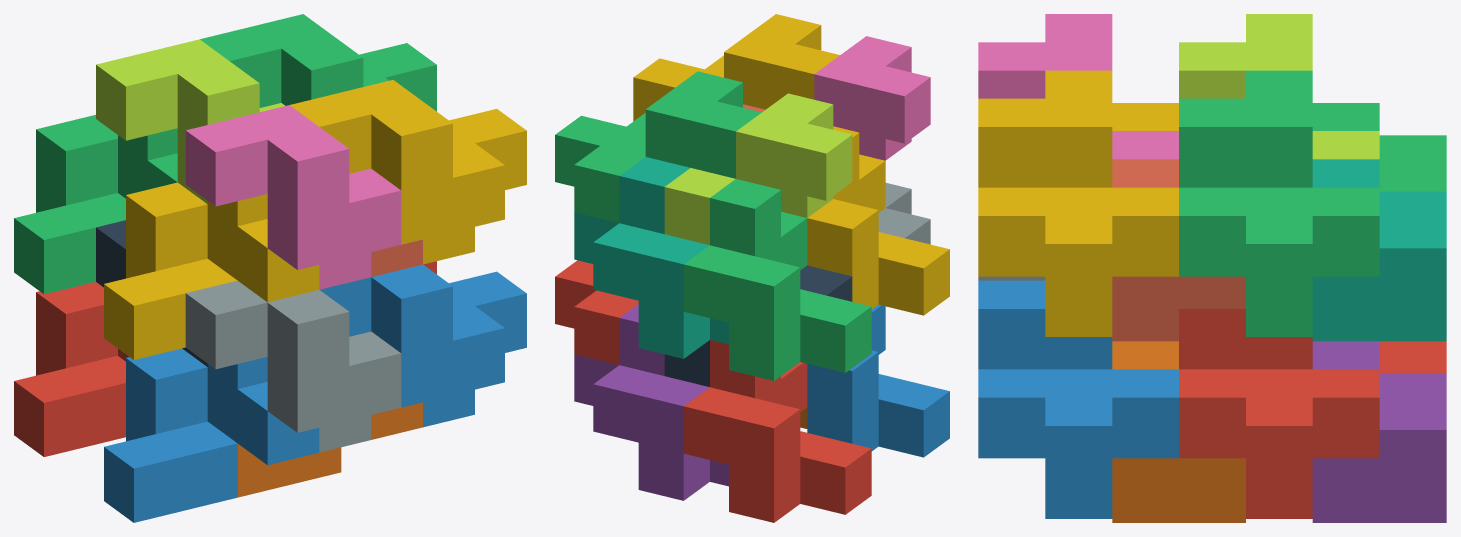
File: tiling.obj
3 renders of one model, left to right at view 1: azimuth 30°, elevation 25°; view 2: azimuth 150°, elevation 25°; view 3: azimuth 270°, elevation 25°, orthographic. The views are drawn at different scales.
Parts seen in each view (by area): view 1: copy_2_domain_4, copy_1_domain_2, copy_2_domain_8, copy_2_domain_2, copy_1_domain_4, copy_2_domain_6, copy_1_domain_3, copy_1_domain_1, copy_2_domain_3, copy_2_domain_7, copy_1_domain_6, copy_2_domain_1 (+1 smaller); view 2: copy_1_domain_3, copy_1_domain_1, copy_2_domain_7, copy_1_domain_7, copy_2_domain_3, copy_1_domain_5, copy_1_domain_4, copy_1_domain_2, copy_2_domain_4, copy_2_domain_8, copy_2_domain_5, copy_2_domain_1 (+1 smaller); view 3: copy_2_domain_8, copy_2_domain_7, copy_2_domain_6, copy_2_domain_5, copy_1_domain_7, copy_1_domain_5, copy_1_domain_6, copy_2_domain_4, copy_2_domain_3, copy_1_domain_8, copy_1_domain_3, copy_1_domain_1 (+1 smaller).
Boxes of the visible parts, bbox=[...] form: copy_2_domain_4: bbox=[185, 105, 401, 289]; copy_1_domain_2: bbox=[104, 348, 319, 522]; copy_2_domain_8: bbox=[290, 80, 526, 264]; copy_2_domain_2: bbox=[185, 280, 401, 452]; copy_1_domain_4: bbox=[104, 182, 319, 359]; copy_2_domain_6: bbox=[319, 264, 526, 427]; copy_1_domain_3: bbox=[14, 114, 177, 294]; copy_1_domain_1: bbox=[14, 282, 128, 456]; copy_2_domain_3: bbox=[96, 39, 285, 203]; copy_2_domain_7: bbox=[200, 14, 436, 111]; copy_1_domain_6: bbox=[237, 402, 422, 497]; copy_2_domain_1: bbox=[96, 220, 207, 366]; copy_1_domain_3: bbox=[683, 179, 871, 380]; copy_1_domain_1: bbox=[683, 340, 871, 522]; copy_2_domain_7: bbox=[555, 71, 761, 222]; copy_1_domain_7: bbox=[574, 157, 728, 358]; copy_2_domain_3: bbox=[664, 93, 852, 245]; copy_1_domain_5: bbox=[574, 304, 728, 500]; copy_1_domain_4: bbox=[807, 126, 949, 315]; copy_1_domain_2: bbox=[807, 304, 949, 457]; copy_2_domain_4: bbox=[814, 36, 930, 160]; copy_2_domain_8: bbox=[633, 14, 839, 121]; copy_2_domain_5: bbox=[555, 260, 638, 364]; copy_2_domain_1: bbox=[664, 265, 852, 386]; copy_2_domain_8: bbox=[978, 70, 1178, 336]; copy_2_domain_7: bbox=[1179, 70, 1379, 336]; copy_2_domain_6: bbox=[978, 280, 1178, 518]; copy_2_domain_5: bbox=[1179, 309, 1379, 518]; copy_1_domain_7: bbox=[1312, 159, 1446, 341]; copy_1_domain_5: bbox=[1312, 341, 1446, 522]; copy_1_domain_6: bbox=[1112, 341, 1245, 522]; copy_2_domain_4: bbox=[978, 14, 1178, 159]; copy_2_domain_3: bbox=[1179, 14, 1379, 159]; copy_1_domain_8: bbox=[1112, 159, 1245, 341]; copy_1_domain_3: bbox=[1312, 103, 1446, 191]; copy_1_domain_1: bbox=[1379, 341, 1446, 373].
Bounding box in the file's own units: 7 × 7 × 7.
